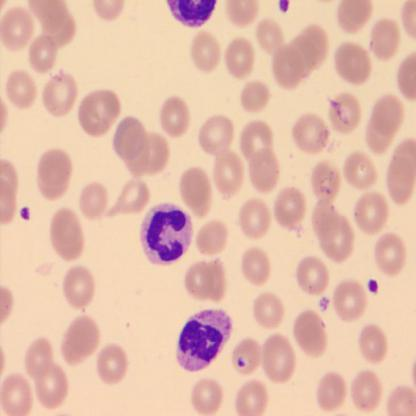Segmented neutrophil: (136, 199, 195, 265)
